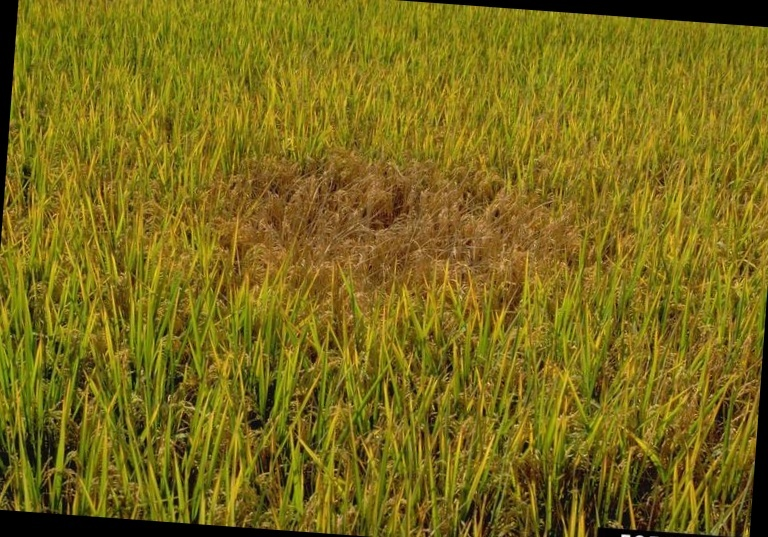Hopper_burn: (205, 142, 595, 342)
